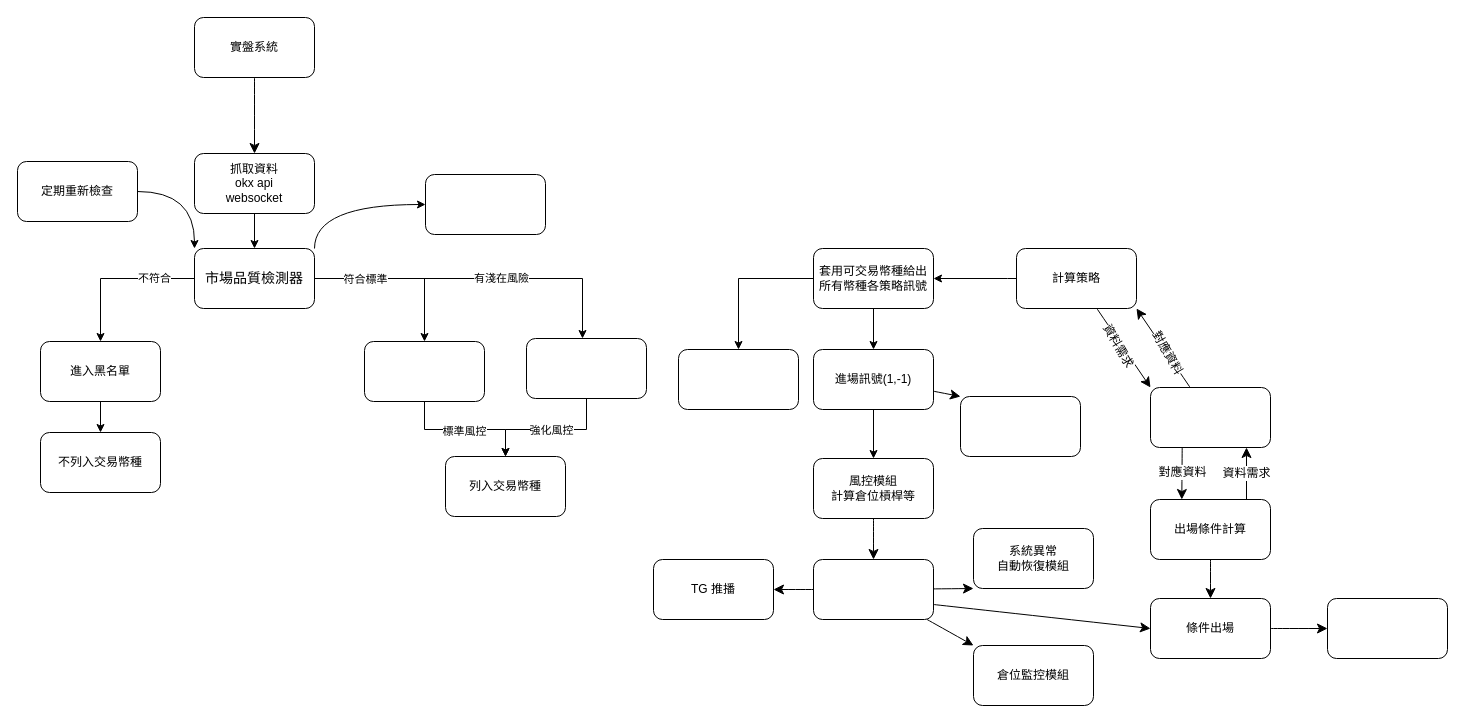
Some shapes in this 1465 by 723 pixel diagram are drawn without their labels. Each missing label, with the centre of its shape:
Log紀錄: (485,204)
TG推播: (1020,426)
下單進場: (873,589)
無訊號(0): (738,379)
策略日誌模組: (1387,628)
資料抓取模組: (1210,417)
進入白名單: (424,371)
進入風險名單: (586,368)
